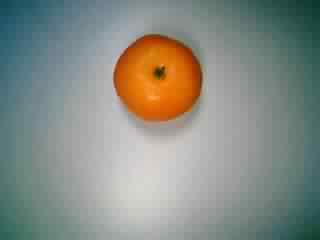orange: (105, 30, 202, 124)
